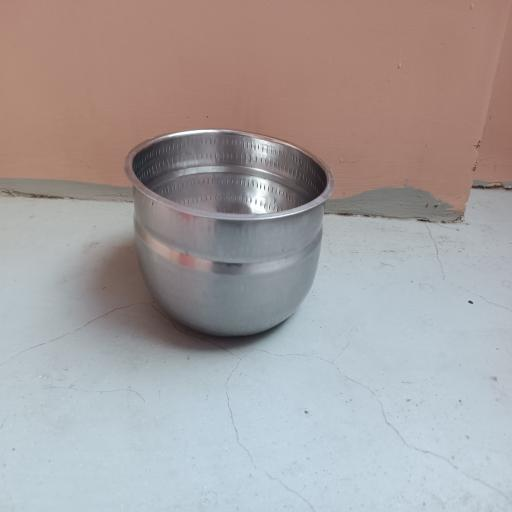vessel: (125, 130, 334, 334)
